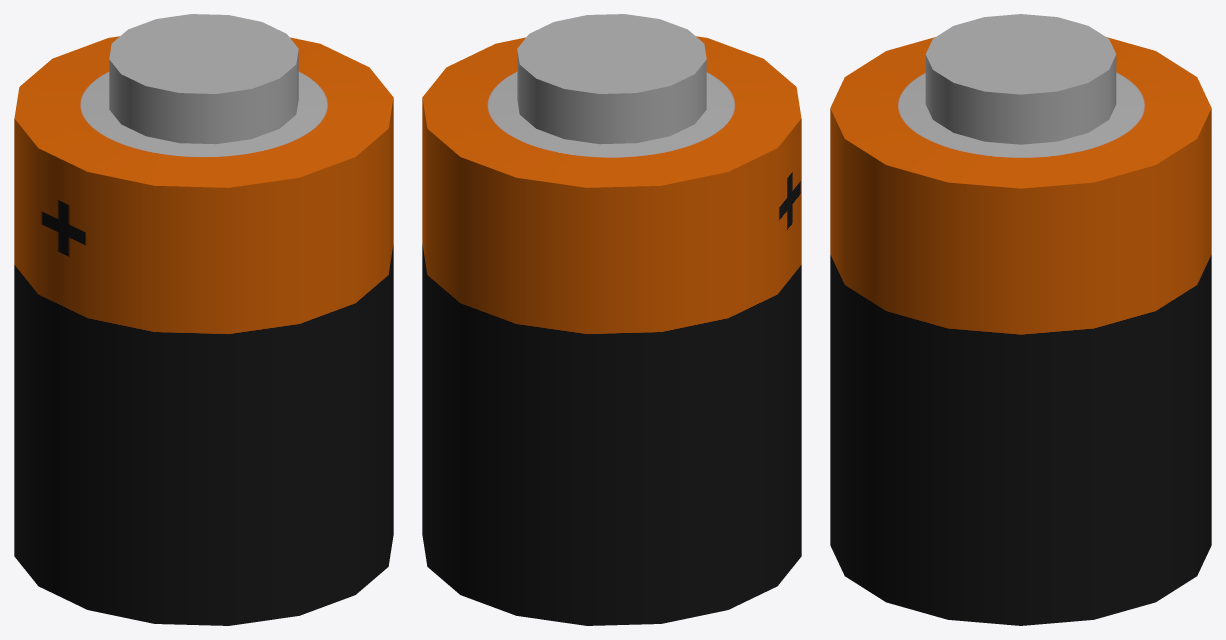
The model's file is battery.fbx.
The picture shows the model from 3 angles, left to right: view 1: azimuth 30°, elevation 25°; view 2: azimuth 150°, elevation 25°; view 3: azimuth 270°, elevation 25°; orthographic projection.
Parts seen in each view (by area): view 1: pCylinder1; view 2: pCylinder1; view 3: pCylinder1.
Part boxes in pixels (x1,y1,x2,y2): pCylinder1: (14, 14, 393, 625); pCylinder1: (422, 14, 801, 625); pCylinder1: (830, 14, 1211, 625).
Size of the model in its own units: 1.31 by 1.87 by 1.31.
